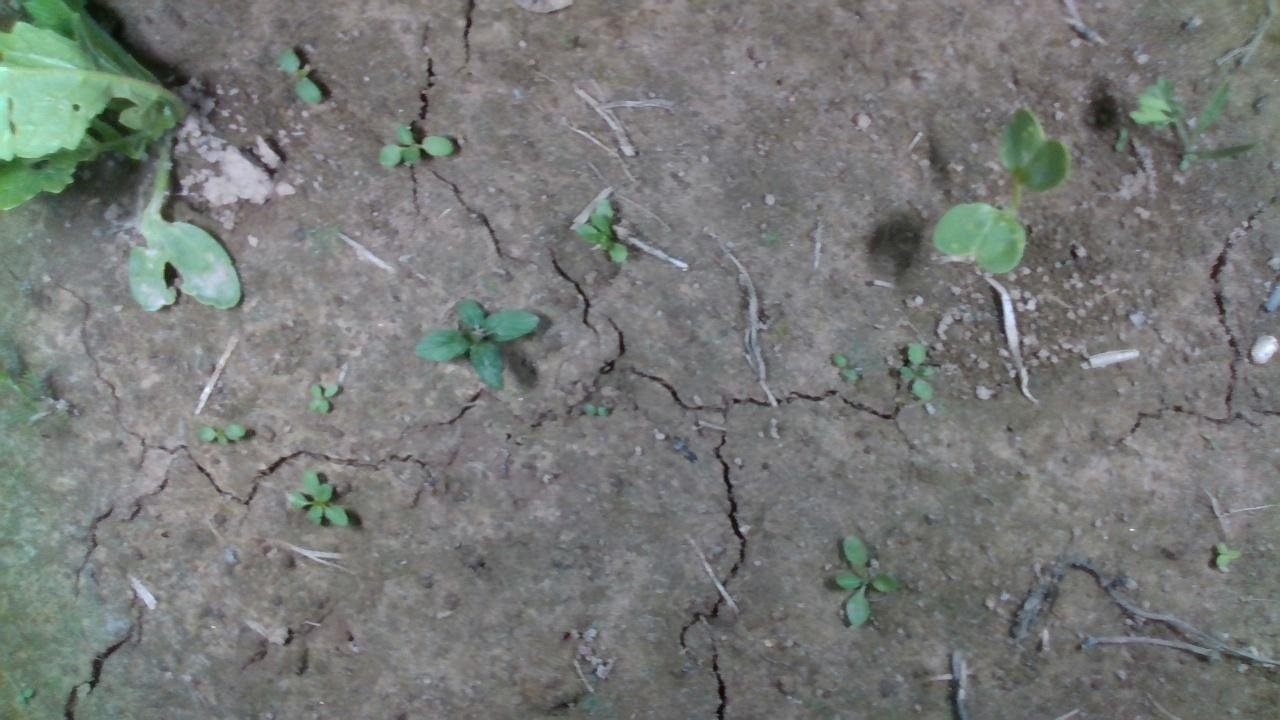weed: (407, 296, 541, 397), (830, 534, 897, 629), (283, 467, 349, 529), (570, 197, 627, 265), (375, 122, 453, 167), (274, 47, 322, 106), (895, 337, 936, 402), (195, 422, 245, 449), (305, 380, 338, 416), (1211, 539, 1241, 572), (830, 351, 857, 383)
